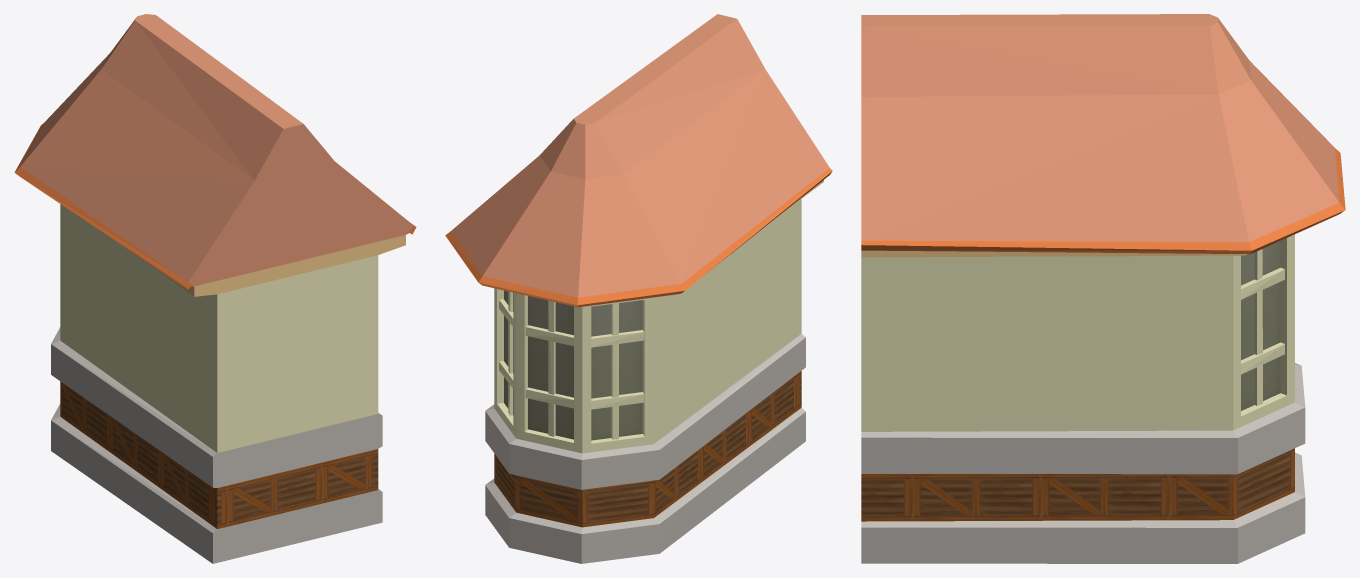
The model's file is BuildingWindow_B_01.fbx.
3 renders of one model, left to right at view 1: azimuth 30°, elevation 25°; view 2: azimuth 150°, elevation 25°; view 3: azimuth 270°, elevation 25°, orthographic. The views are drawn at different scales.
Visible parts, largest first — view 1: BuildingWindow_B_01; view 2: BuildingWindow_B_01; view 3: BuildingWindow_B_01.
Part boxes in pixels (box(x1,y1,x2,y2)): BuildingWindow_B_01: box(14, 14, 416, 563); BuildingWindow_B_01: box(445, 14, 832, 563); BuildingWindow_B_01: box(861, 14, 1345, 563).
Bounding box in the file's own units: 473 × 779 × 694.
